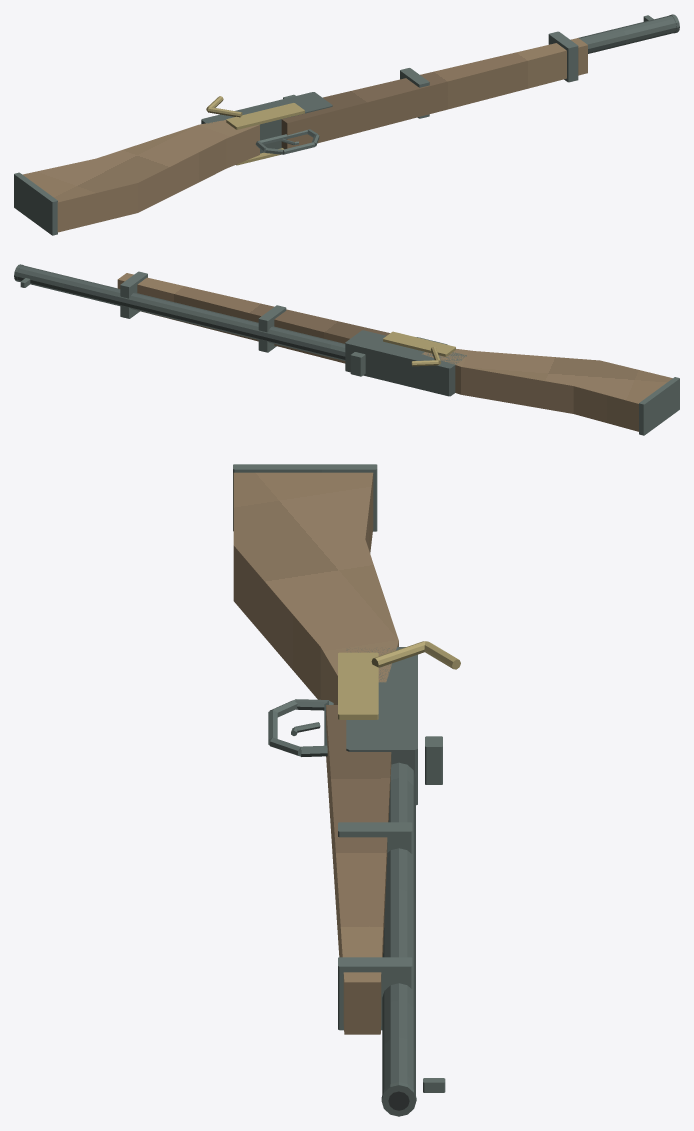
Rendered from weapon-matchlock.glb.
3 renders of one model, top to bottom at view 1: azimuth 30°, elevation 25°; view 2: azimuth 150°, elevation 25°; view 3: azimuth 270°, elevation 25°, orthographic. The views are drawn at different scales.
Parts seen in each view (by area): view 1: weapon-matchlock/shaped-solid-butt, weapon-matchlock/tapered-full-depth-forend, weapon-matchlock/long-barrel, weapon-matchlock/butt-end-plate, weapon-matchlock/central-receiver, weapon-matchlock/external-lockplate-left, weapon-matchlock/stock-band-1, weapon-matchlock/stock-band-0; view 2: weapon-matchlock/shaped-solid-butt, weapon-matchlock/long-barrel, weapon-matchlock/tapered-full-depth-forend, weapon-matchlock/central-receiver, weapon-matchlock/butt-end-plate, weapon-matchlock/external-lockplate-left, weapon-matchlock/stock-band-1, weapon-matchlock/stock-band-0, weapon-matchlock/rear-sight; view 3: weapon-matchlock/shaped-solid-butt, weapon-matchlock/tapered-full-depth-forend, weapon-matchlock/long-barrel, weapon-matchlock/central-receiver, weapon-matchlock/external-lockplate-left, weapon-matchlock/stock-band-1, weapon-matchlock/butt-end-plate, weapon-matchlock/stock-band-0.
Part boxes in pixels (x1=…): weapon-matchlock/shaped-solid-butt: x1=22, y1=120, x2=259, y2=232; weapon-matchlock/tapered-full-depth-forend: x1=281, y1=38, x2=587, y2=149; weapon-matchlock/long-barrel: x1=578, y1=15, x2=676, y2=53; weapon-matchlock/butt-end-plate: x1=14, y1=172, x2=57, y2=235; weapon-matchlock/central-receiver: x1=201, y1=92, x2=332, y2=153; weapon-matchlock/external-lockplate-left: x1=226, y1=103, x2=304, y2=129; weapon-matchlock/stock-band-1: x1=548, y1=31, x2=578, y2=82; weapon-matchlock/stock-band-0: x1=400, y1=68, x2=429, y2=118; weapon-matchlock/shaped-solid-butt: x1=422, y1=349, x2=672, y2=431; weapon-matchlock/long-barrel: x1=17, y1=265, x2=345, y2=360; weapon-matchlock/tapered-full-depth-forend: x1=117, y1=273, x2=389, y2=363; weapon-matchlock/central-receiver: x1=345, y1=330, x2=466, y2=396; weapon-matchlock/butt-end-plate: x1=639, y1=377, x2=679, y2=435; weapon-matchlock/external-lockplate-left: x1=383, y1=331, x2=455, y2=356; weapon-matchlock/stock-band-1: x1=120, y1=271, x2=147, y2=318; weapon-matchlock/stock-band-0: x1=258, y1=305, x2=286, y2=352; weapon-matchlock/rear-sight: x1=350, y1=352, x2=365, y2=376; weapon-matchlock/shaped-solid-butt: x1=233, y1=472, x2=398, y2=704; weapon-matchlock/tapered-full-depth-forend: x1=326, y1=705, x2=391, y2=1034; weapon-matchlock/long-barrel: x1=382, y1=762, x2=415, y2=1095; weapon-matchlock/central-receiver: x1=346, y1=647, x2=417, y2=805; weapon-matchlock/external-lockplate-left: x1=338, y1=652, x2=378, y2=719; weapon-matchlock/stock-band-1: x1=338, y1=957, x2=412, y2=1030; weapon-matchlock/butt-end-plate: x1=233, y1=464, x2=377, y2=531; weapon-matchlock/stock-band-0: x1=338, y1=822, x2=412, y2=853.
Size of the model in its own units: 1.02 by 0.062 by 0.1628.
4 materials, 4 textured.
